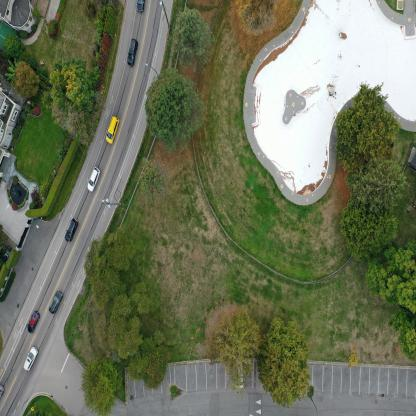Coniferous Tree: (144, 76, 204, 154), (263, 314, 313, 407), (344, 82, 390, 171), (213, 310, 257, 397), (342, 194, 393, 260), (350, 162, 406, 216), (172, 7, 214, 67), (80, 362, 126, 412), (87, 242, 128, 296), (230, 0, 283, 40), (102, 308, 145, 354), (50, 101, 91, 147), (129, 342, 165, 389), (137, 158, 166, 210), (14, 66, 41, 103)
Deciduous Tree: (366, 246, 416, 313), (58, 68, 89, 103), (394, 316, 416, 361)
